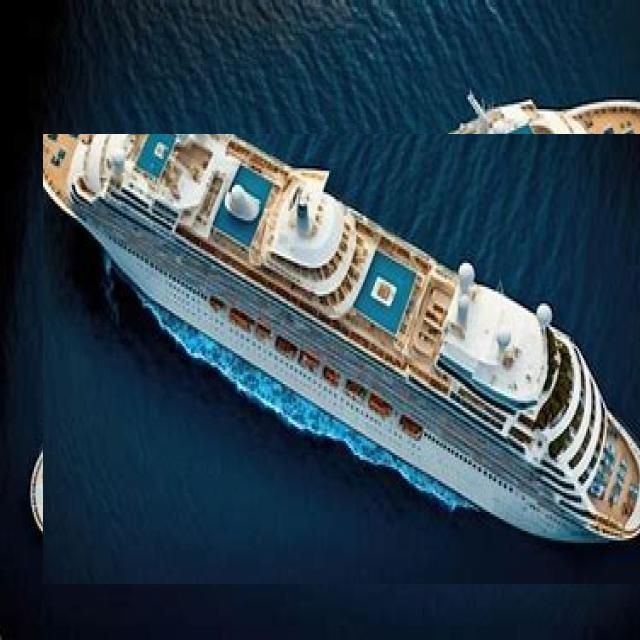PassengerShip: (43, 135, 640, 584)
